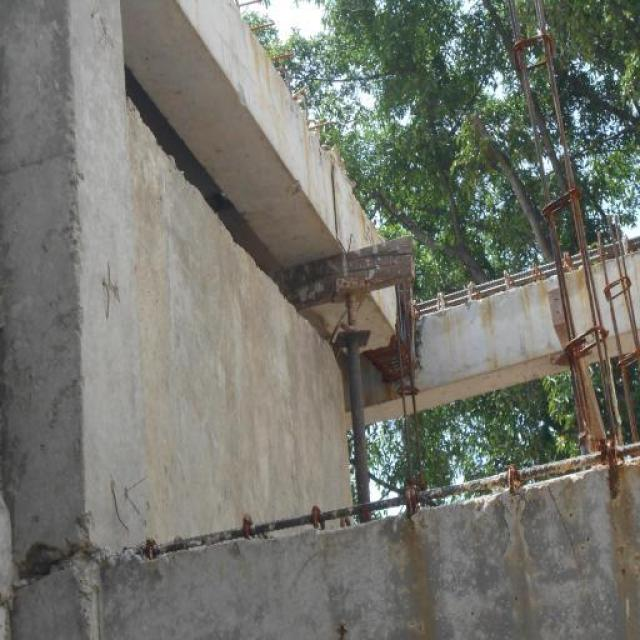D0w0: (128, 0, 639, 560)
